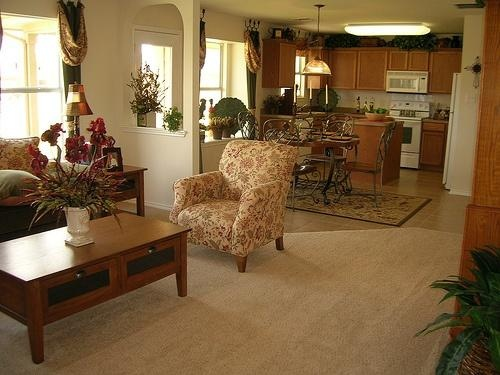chair: (172, 139, 295, 275), (334, 119, 398, 206)
diningtable: (264, 128, 360, 209)
pottedplant: (26, 117, 127, 251), (423, 242, 500, 375)
